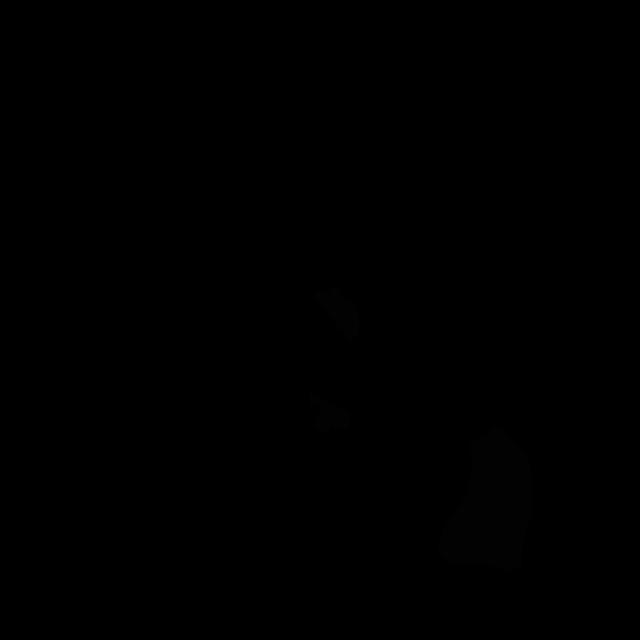cardboard: (437, 427, 533, 570), (315, 287, 359, 342), (308, 389, 350, 432)
